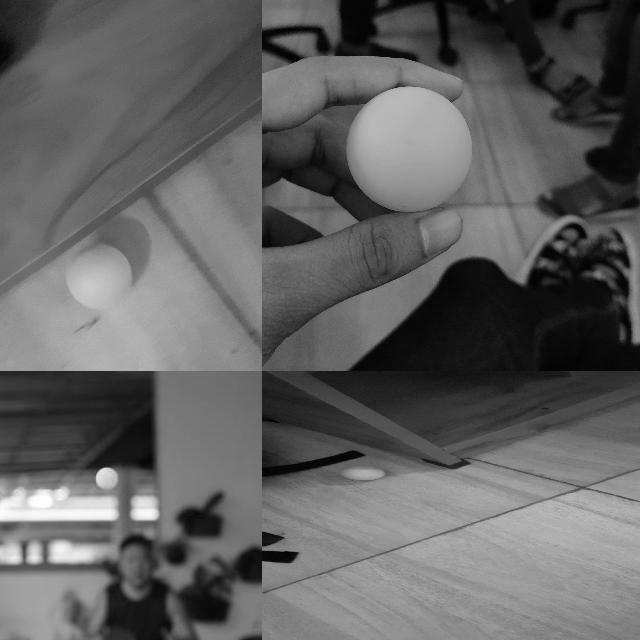ping-pong-ball: (341, 86, 471, 212), (64, 244, 130, 310), (343, 466, 383, 478), (96, 468, 118, 488)
